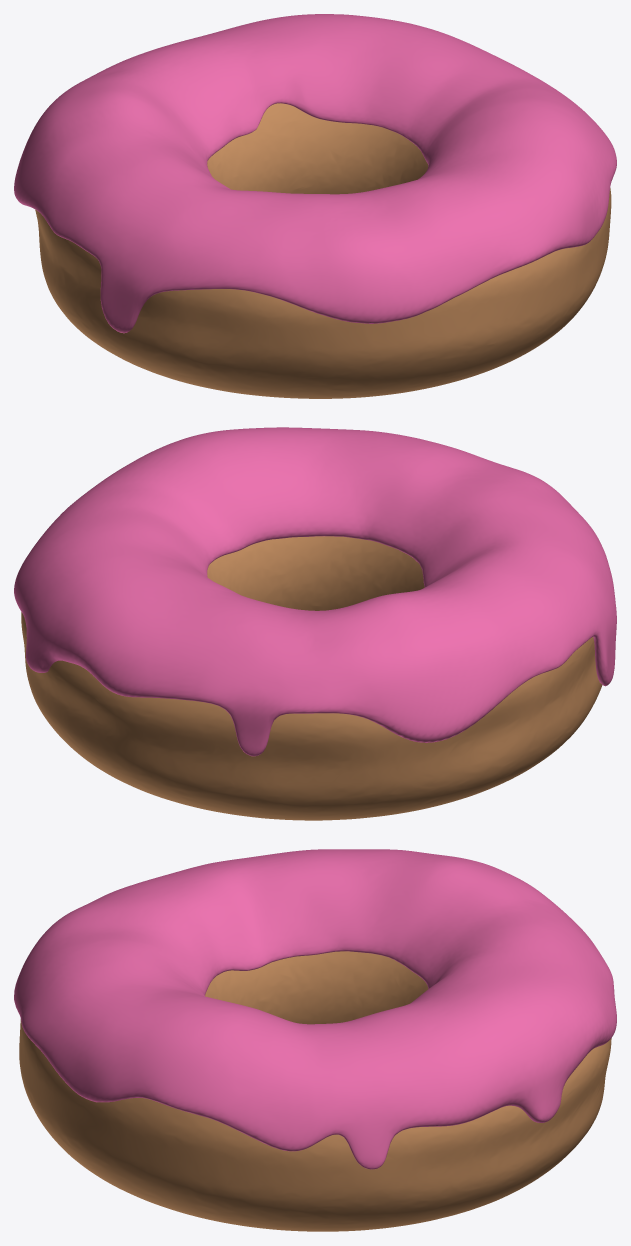
File: An_Idiot_donut.fbx
The picture shows the model from 3 angles, top to bottom: view 1: azimuth 30°, elevation 25°; view 2: azimuth 150°, elevation 25°; view 3: azimuth 270°, elevation 25°; orthographic projection.
Visible parts, largest first — view 1: polySurface7; view 2: polySurface7; view 3: polySurface7.
Boxes of the visible parts, x1,y1,x2,y2 form: polySurface7: [14, 14, 616, 398]; polySurface7: [14, 427, 616, 820]; polySurface7: [14, 849, 616, 1231].
Bounding box in the file's own units: 7.15 × 2.75 × 7.21.
